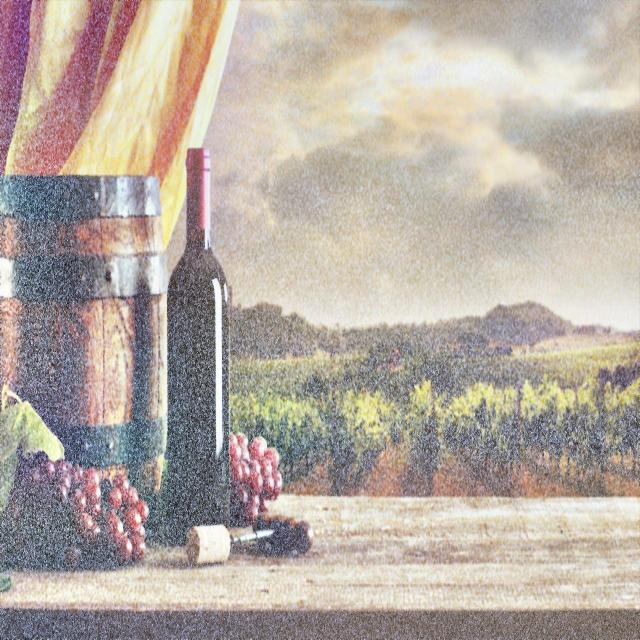cork: (182, 516, 234, 568)
